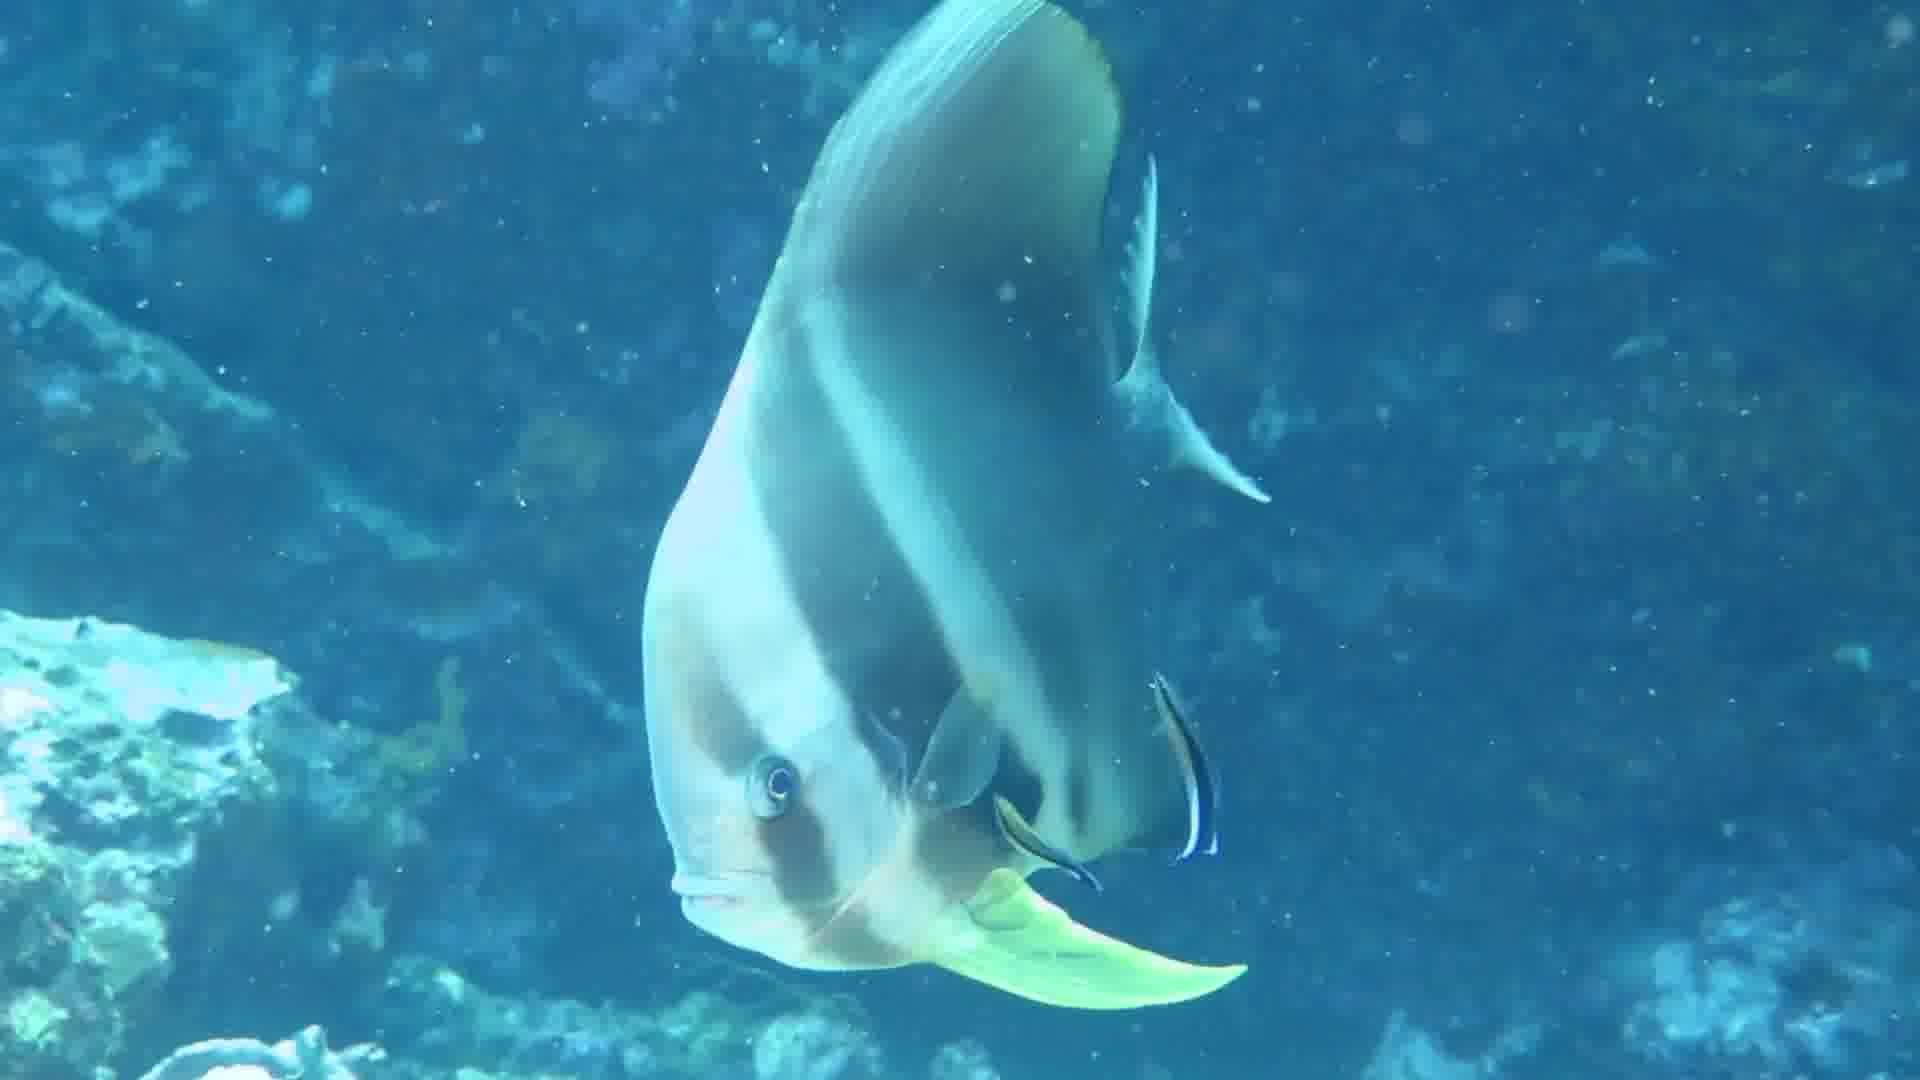Platax teira: (419, 1, 1501, 1014)
